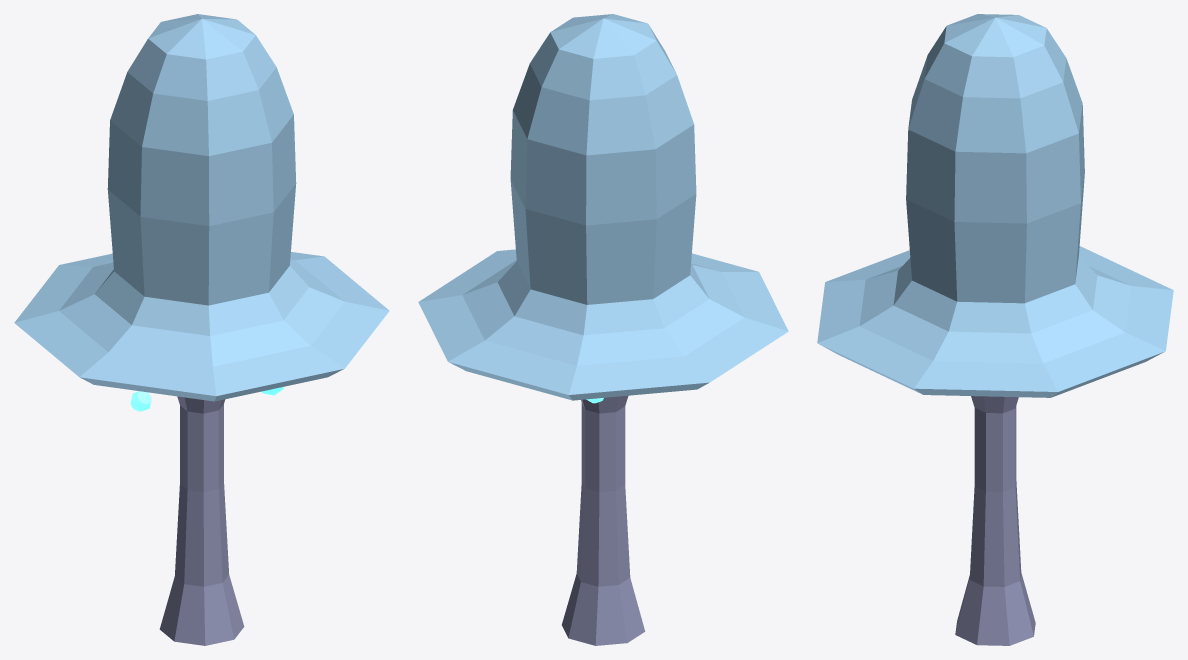
File: Tree_09_Var_01.fbx
3 renders of one model, left to right at view 1: azimuth 30°, elevation 25°; view 2: azimuth 150°, elevation 25°; view 3: azimuth 270°, elevation 25°, orthographic.
Parts seen in each view (by area): view 1: Tree_09_Var_01; view 2: Tree_09_Var_01; view 3: Tree_09_Var_01.
Part boxes in pixels (x1=…): Tree_09_Var_01: x1=14, y1=14, x2=389, y2=645; Tree_09_Var_01: x1=418, y1=14, x2=788, y2=645; Tree_09_Var_01: x1=817, y1=14, x2=1173, y2=645.
Size of the model in its own units: 1.91 by 3.61 by 1.91.
